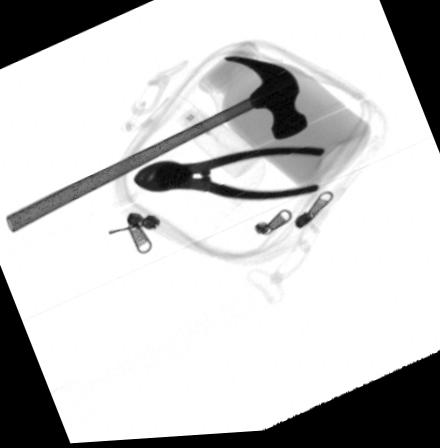Hammer: (4, 59, 309, 232)
Pliers: (131, 150, 327, 203)
